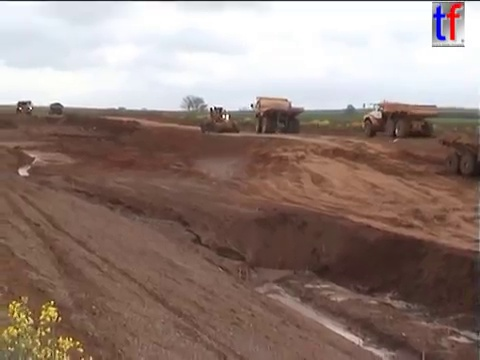motor grader: (199, 105, 241, 135)
truck: (361, 99, 440, 140), (249, 94, 307, 135), (436, 129, 480, 178), (15, 98, 36, 117), (46, 101, 65, 118)
